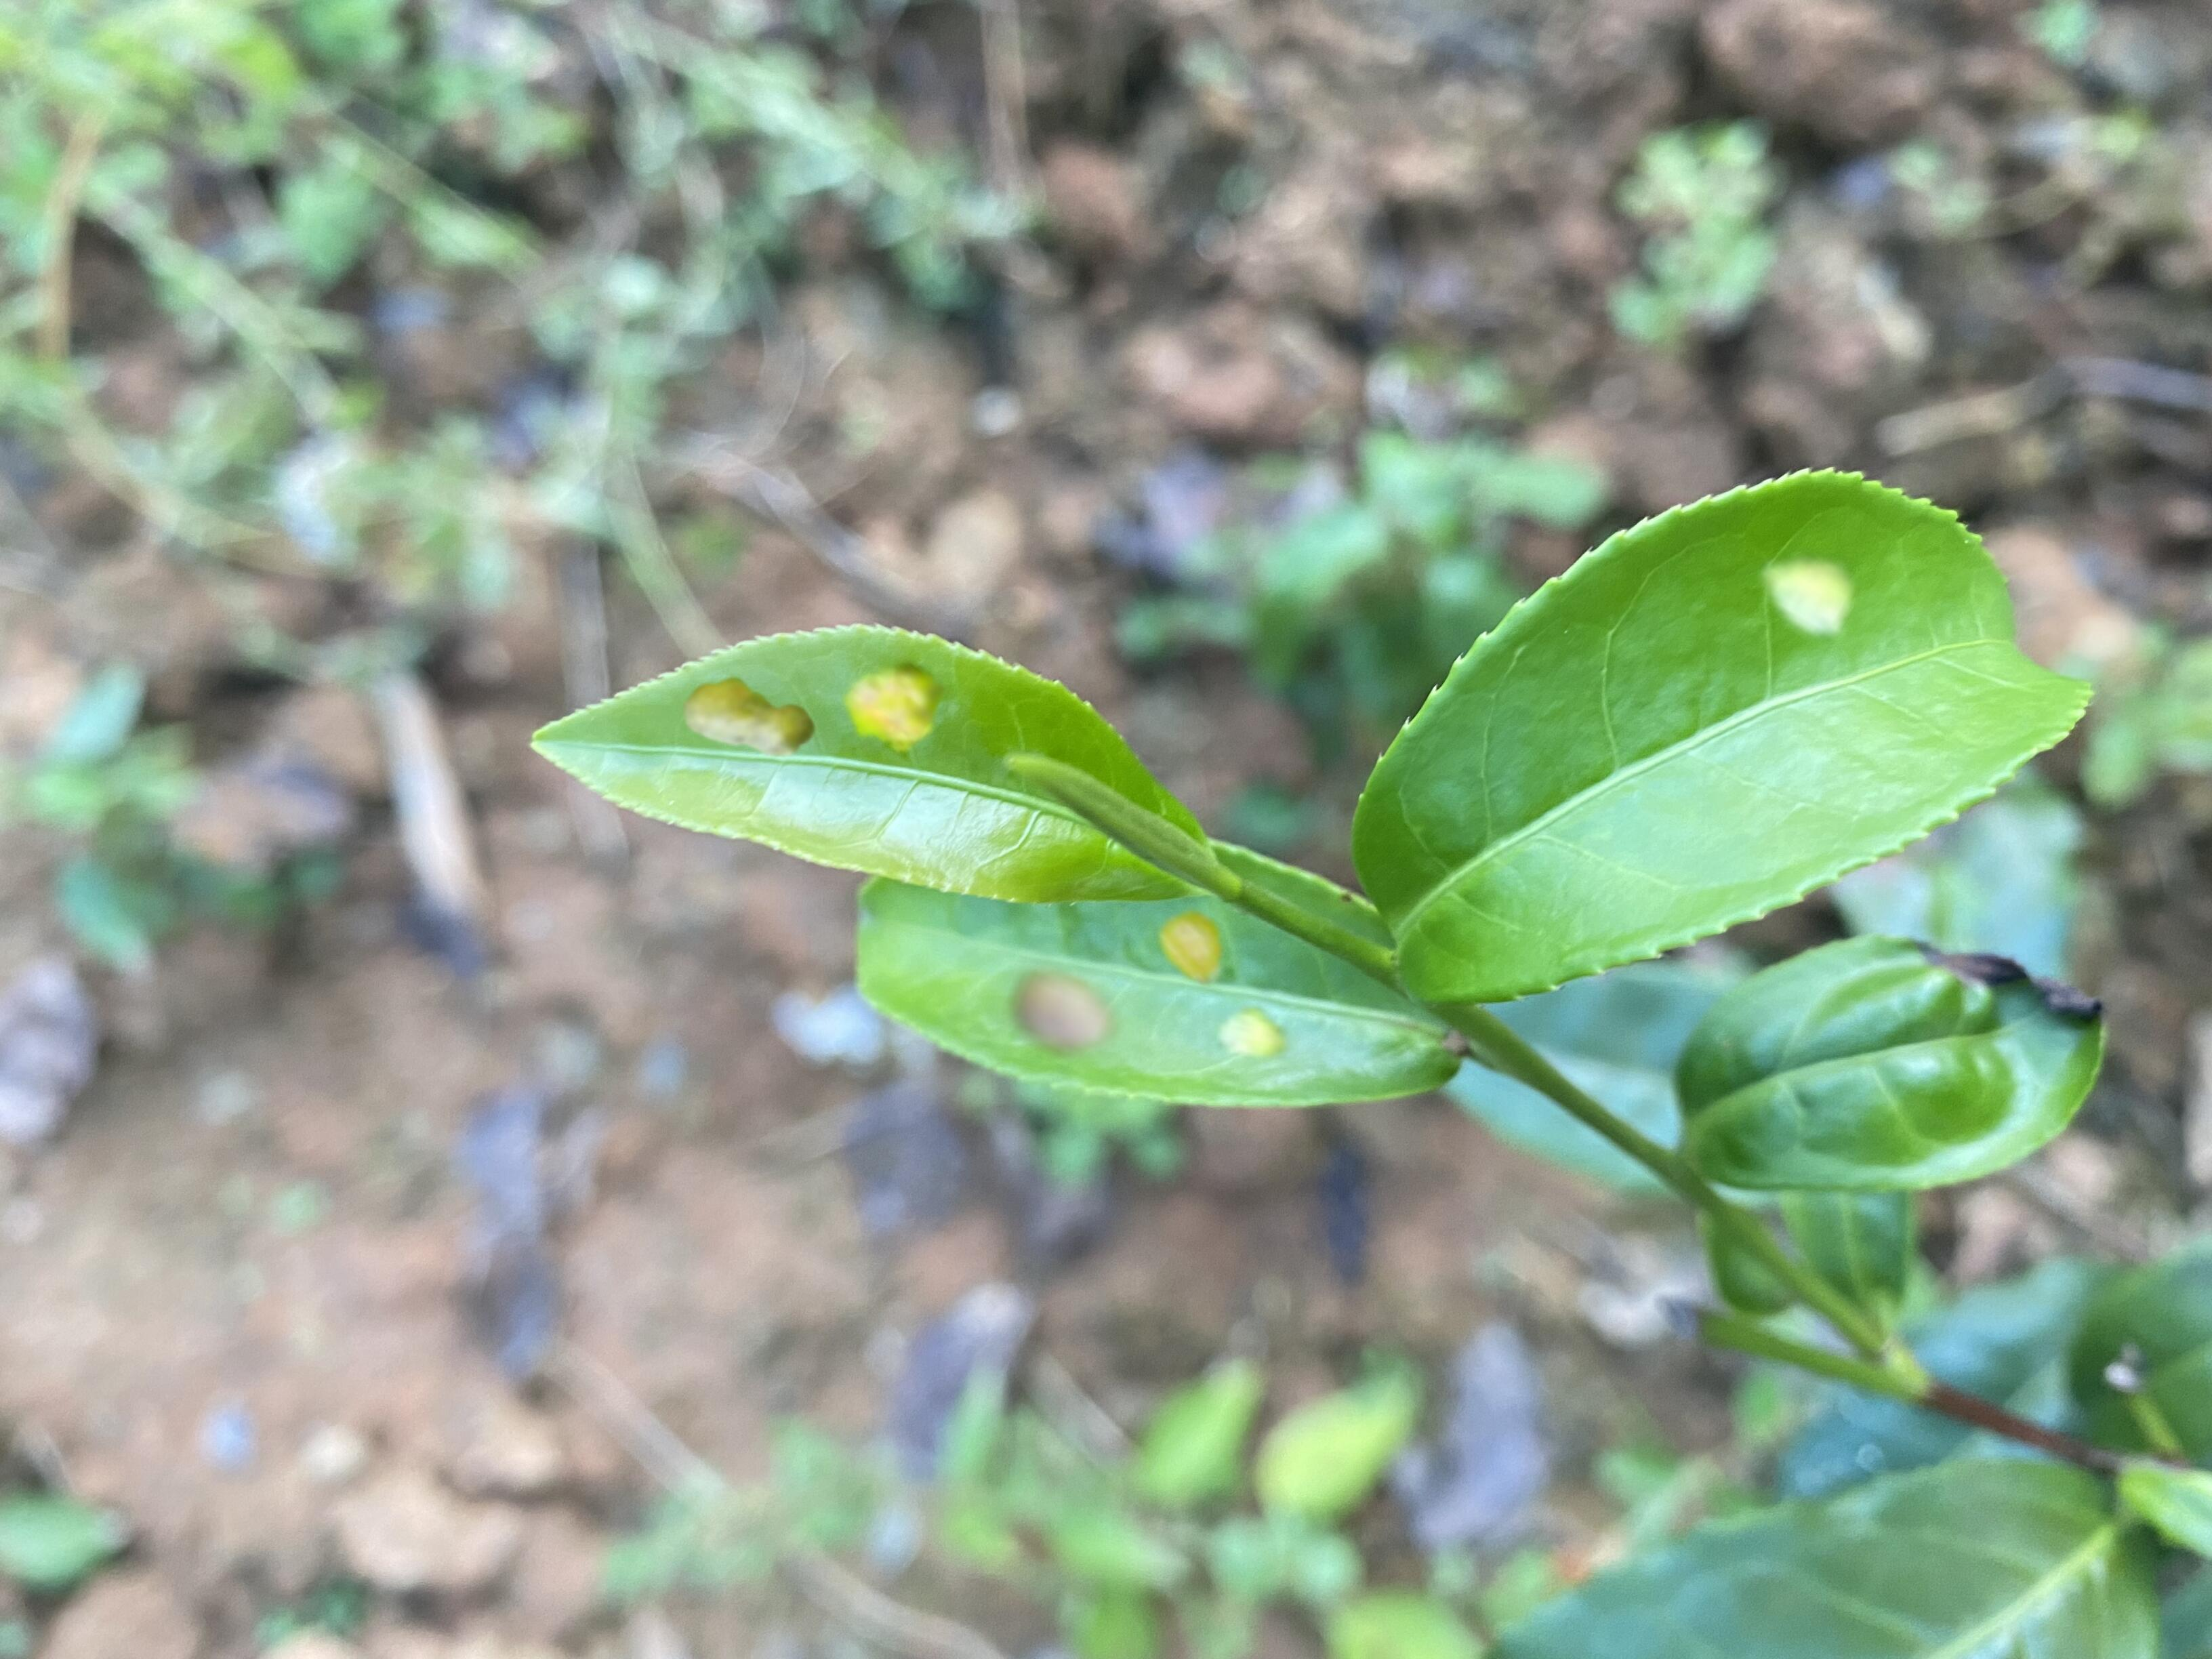chabing_high: (526, 624, 1228, 908), (857, 835, 1467, 1107)
chabing_low: (1350, 464, 2095, 1009)
tanju_high: (1669, 931, 2107, 1197)
